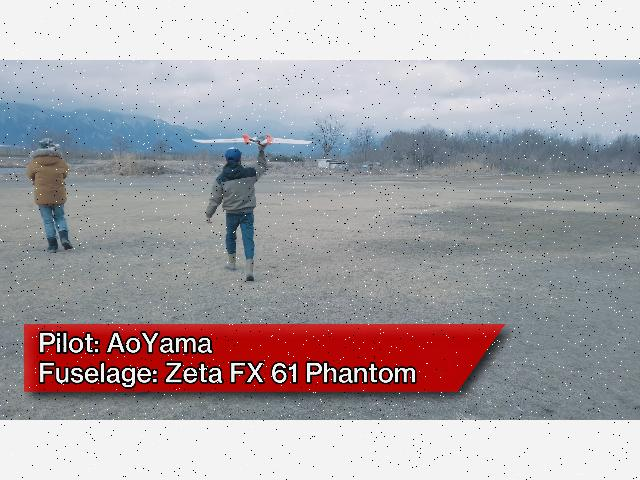Anti-Drone: (191, 133, 313, 148)
